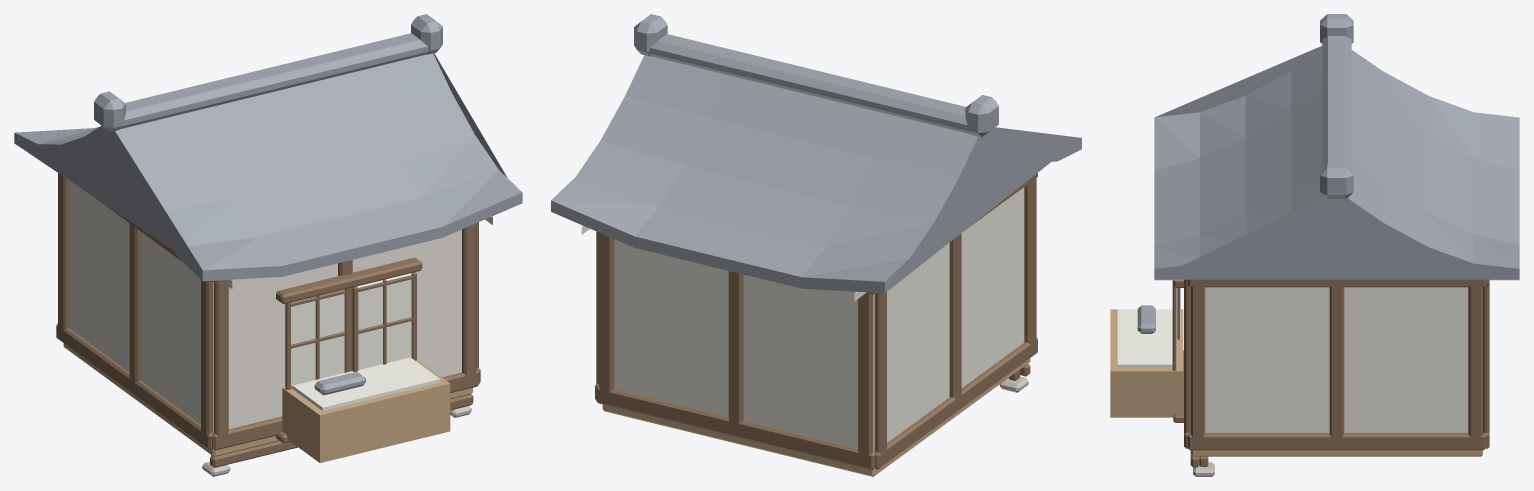
File: fishmonger.glb
3 views of the same model, side by side, from view 1: azimuth 30°, elevation 25°; view 2: azimuth 150°, elevation 25°; view 3: azimuth 270°, elevation 25° (orthographic). The views are drawn at different scales.
Visible parts, largest first — view 1: fishmonger; view 2: fishmonger; view 3: fishmonger.
Part boxes in pixels (x1=…): fishmonger: x1=14, y1=14, x2=522, y2=476; fishmonger: x1=551, y1=14, x2=1081, y2=476; fishmonger: x1=1110, y1=14, x2=1519, y2=476.
Size of the model in its own units: 5.2 by 4.91 by 5.6.
